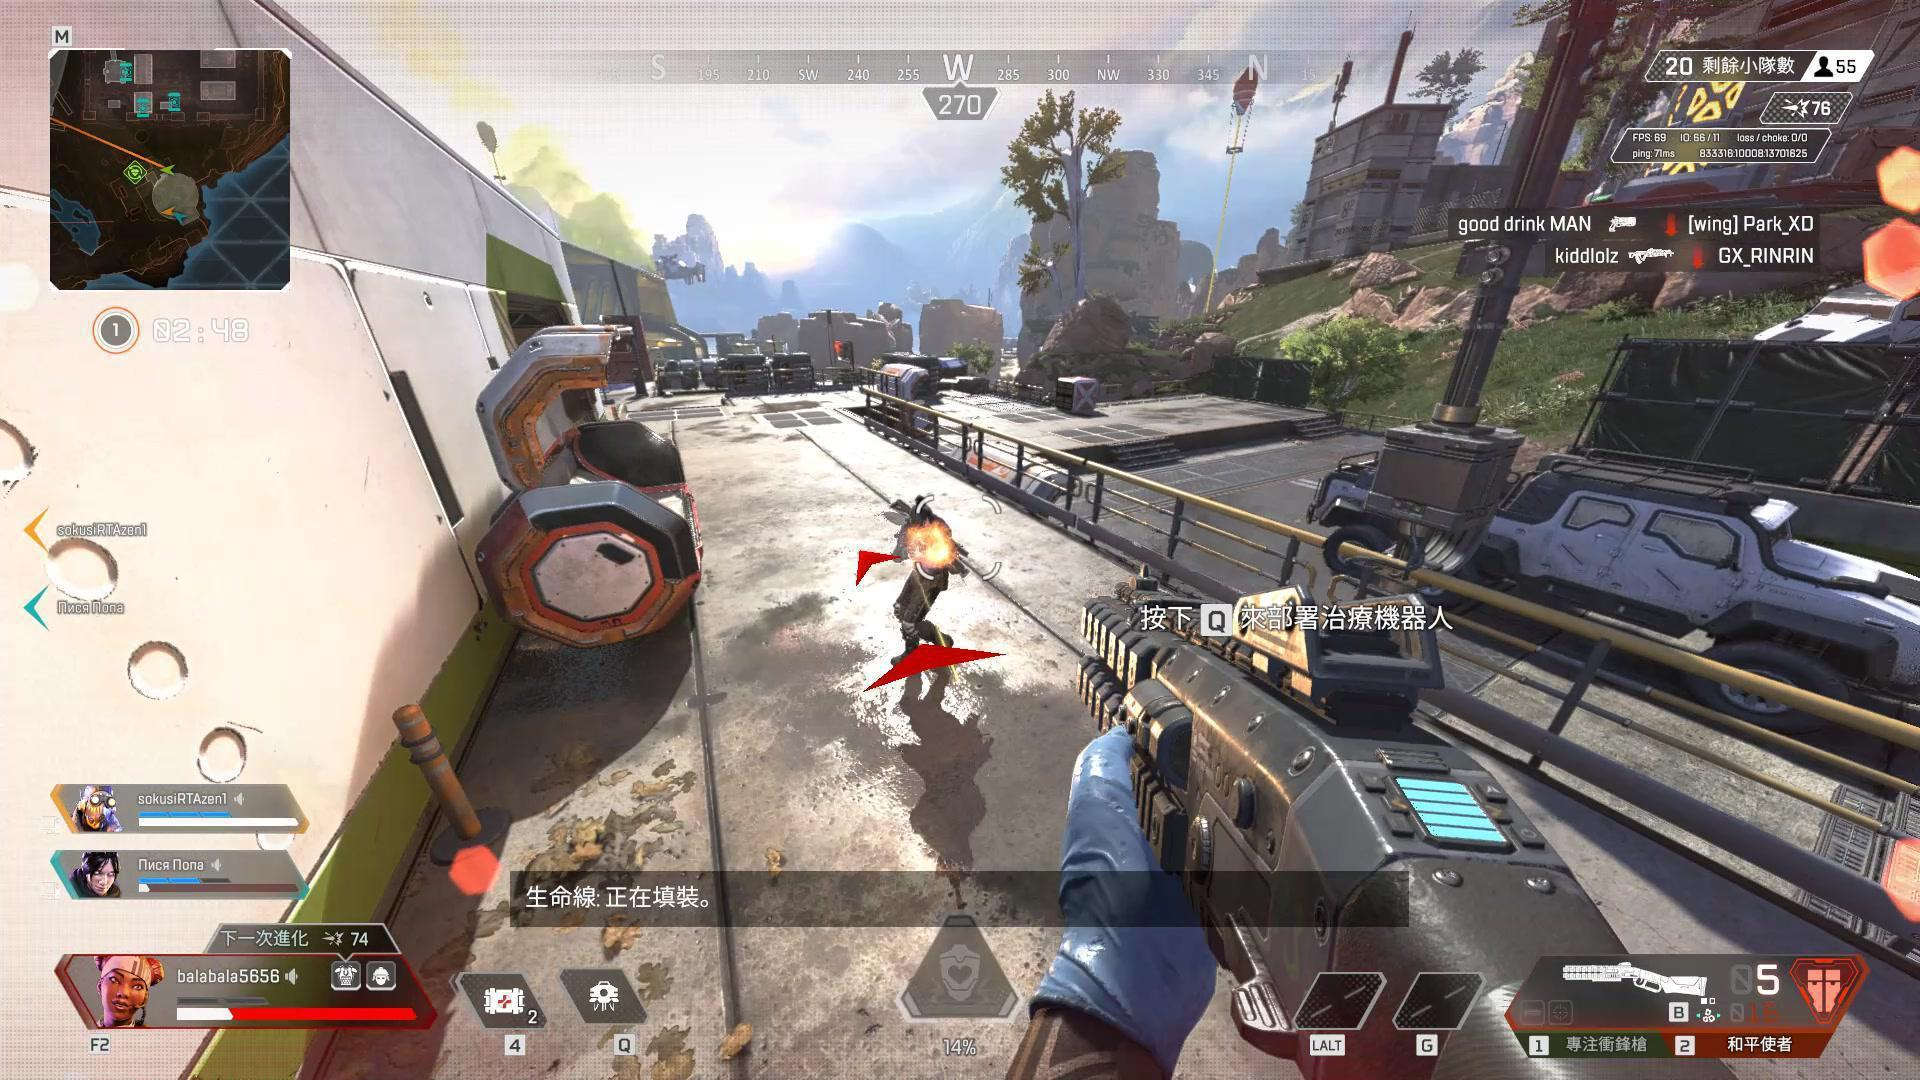avatar: (891, 496, 956, 646)
object: (907, 519, 958, 571)
